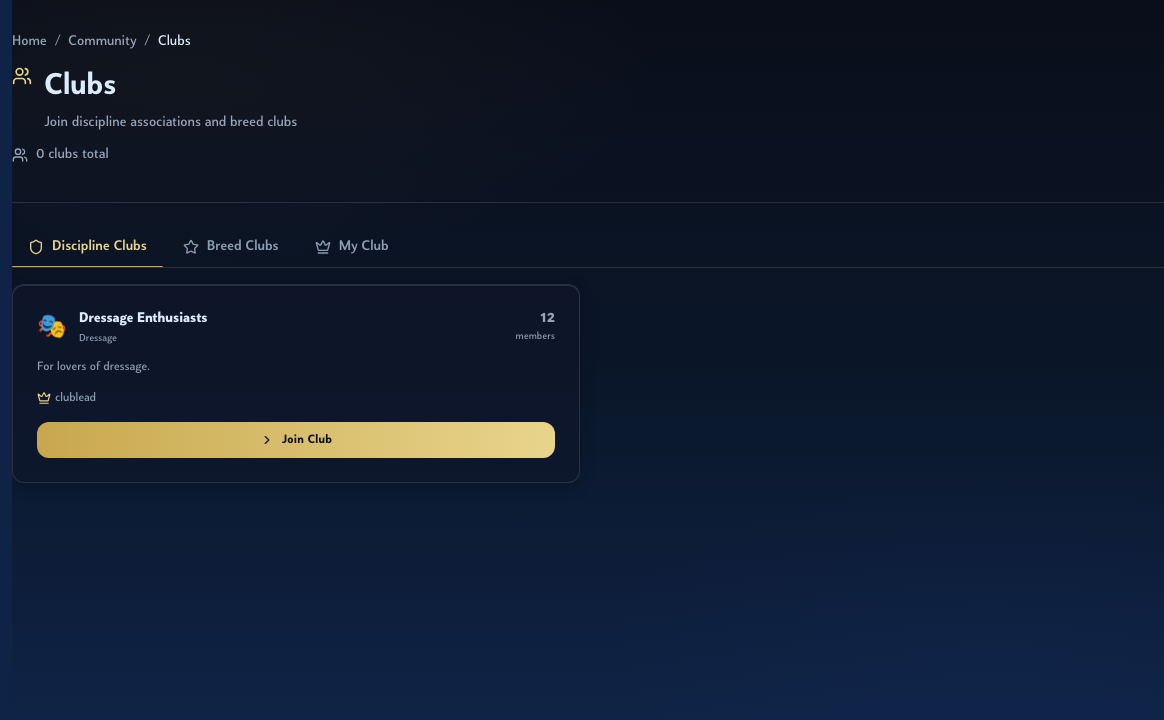
Test: club actions report failure (Equoria-pqor7) › a refused join says why, on the club that was tried
Click the button with test id "join-button-101" at (296, 440), box [37,422,555,458]
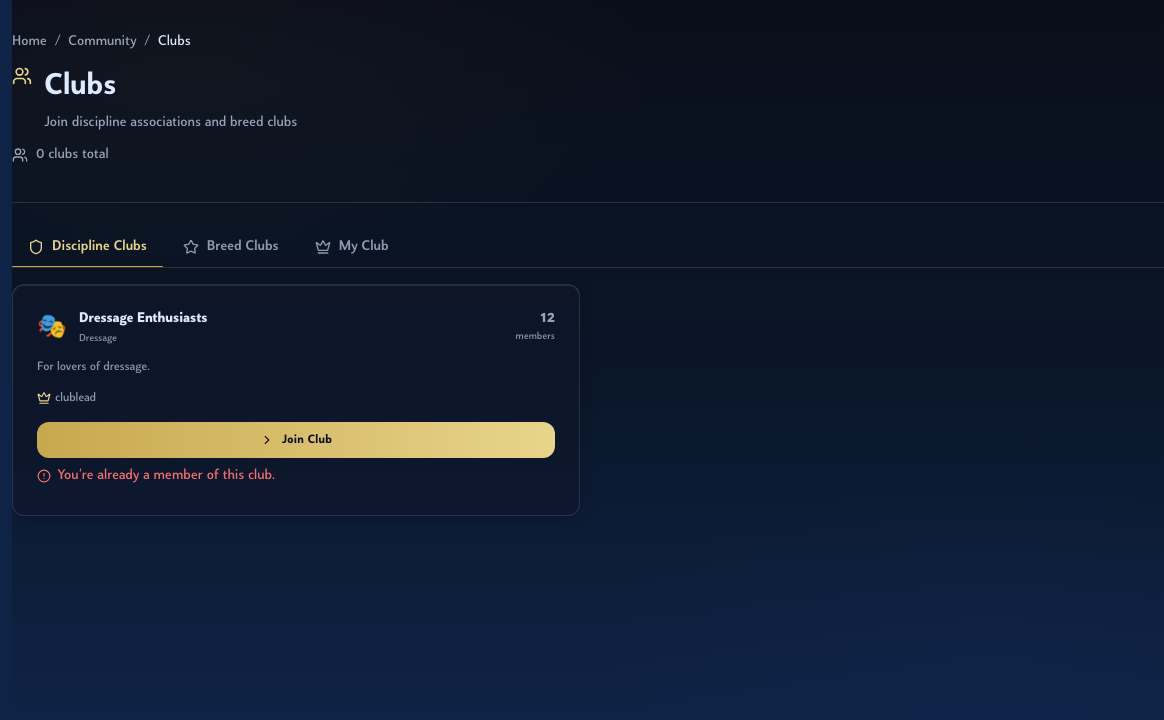
Expected: the message shows "already a member", [57,468,275,482]
